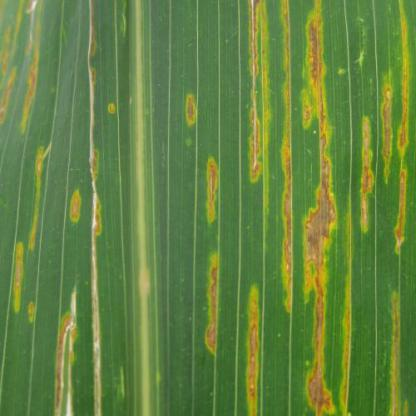corn leaf blight: (1, 1, 403, 415)
